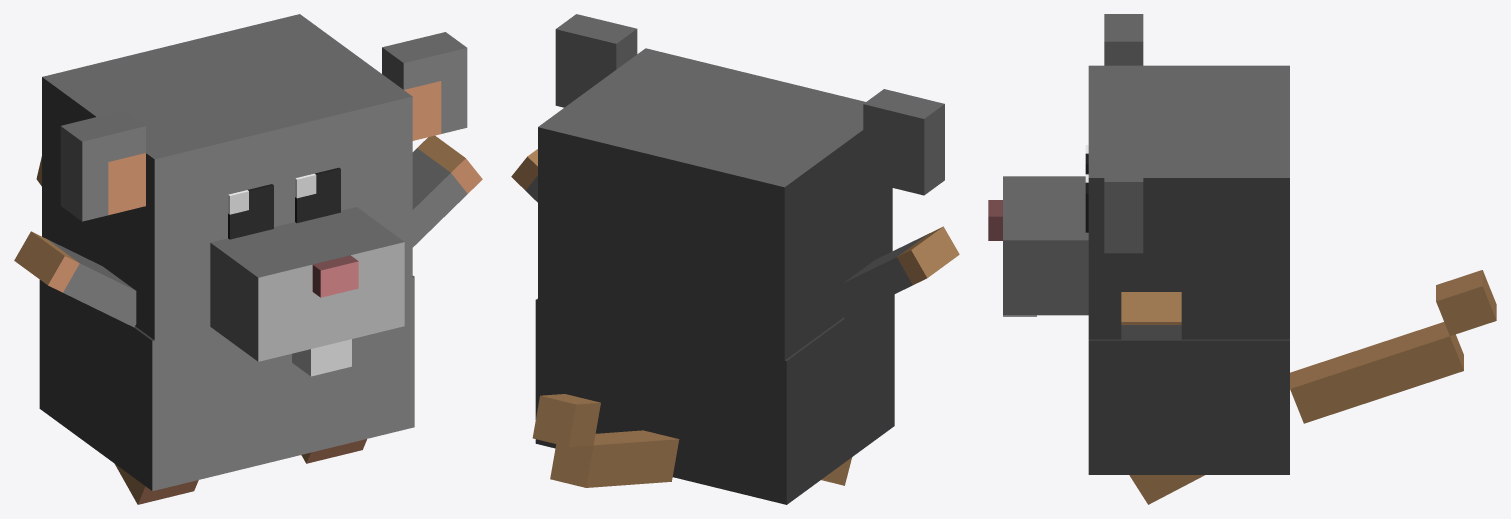
The picture shows the model from 3 angles, left to right: view 1: azimuth 30°, elevation 25°; view 2: azimuth 150°, elevation 25°; view 3: azimuth 270°, elevation 25°; orthographic projection. The views are drawn at different scales.
Visible parts, largest first — view 1: Ch_183_Head, Ch_183, Ch_183_Arm_L, Ch_183_Arm_R, Ch_183_Eye_01, Ch_183_Leg_L, Ch_183_Leg_R; view 2: Ch_183_Head, Ch_183, Ch_183_Tail, Ch_183_Arm_L, Ch_183_Arm_R; view 3: Ch_183_Head, Ch_183, Ch_183_Tail, Ch_183_Arm_R, Ch_183_Leg_R.
Boxes of the visible parts, left/top/right/bottom form: Ch_183_Head: left=42, top=14, right=467, bottom=376; Ch_183: left=39, top=276, right=414, bottom=491; Ch_183_Arm_L: left=14, top=231, right=136, bottom=327; Ch_183_Arm_R: left=412, top=135, right=482, bottom=247; Ch_183_Eye_01: left=228, top=167, right=340, bottom=239; Ch_183_Leg_L: left=115, top=464, right=198, bottom=504; Ch_183_Leg_R: left=301, top=439, right=366, bottom=463; Ch_183_Head: left=538, top=14, right=944, bottom=360; Ch_183: left=535, top=294, right=894, bottom=504; Ch_183_Tail: left=532, top=394, right=679, bottom=487; Ch_183_Arm_L: left=842, top=226, right=959, bottom=318; Ch_183_Arm_R: left=511, top=149, right=537, bottom=202; Ch_183_Head: left=988, top=14, right=1289, bottom=339; Ch_183: left=1088, top=339, right=1289, bottom=474; Ch_183_Tail: left=1290, top=270, right=1496, bottom=423; Ch_183_Arm_R: left=1121, top=292, right=1181, bottom=340; Ch_183_Leg_R: left=1129, top=475, right=1204, bottom=504.
Bounding box in the file's own units: 11.17 × 9.84 × 12.66.
